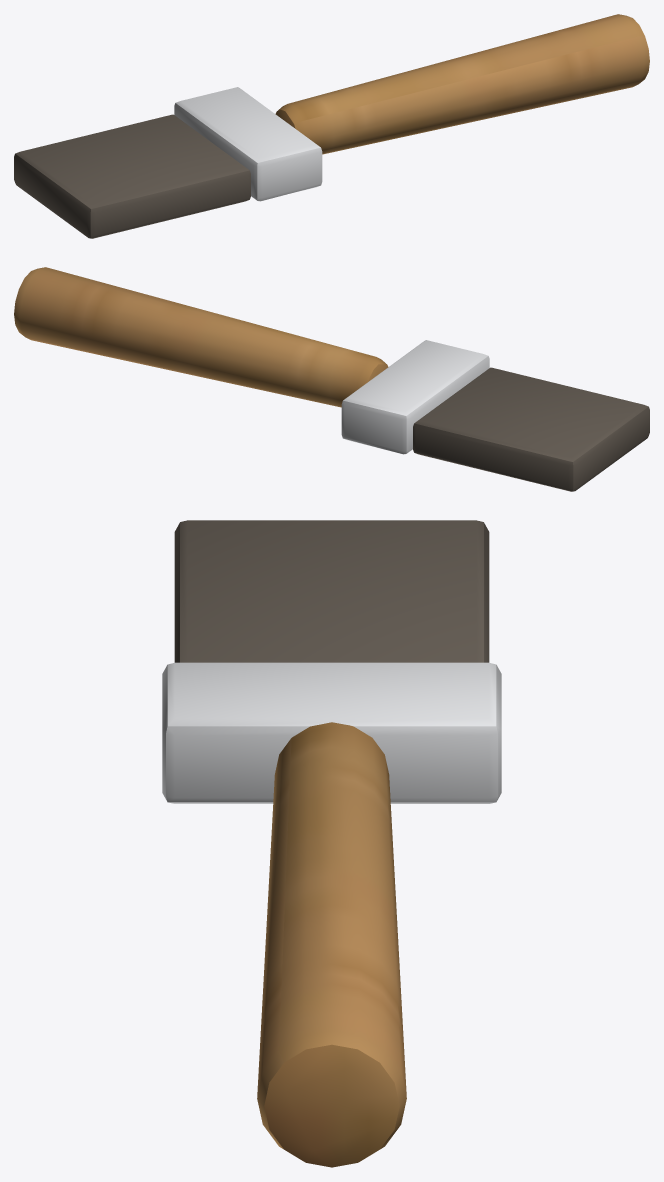
Rendered from PIN-FER-002_lod1.glb.
3 renders of one model, top to bottom at view 1: azimuth 30°, elevation 25°; view 2: azimuth 150°, elevation 25°; view 3: azimuth 270°, elevation 25°, orthographic. The views are drawn at different scales.
Parts seen in each view (by area): view 1: PIN-FER-002_cabo, PIN-FER-002_cerdas, PIN-FER-002_virola; view 2: PIN-FER-002_cabo, PIN-FER-002_cerdas, PIN-FER-002_virola; view 3: PIN-FER-002_cabo, PIN-FER-002_cerdas, PIN-FER-002_virola.
Boxes of the visible parts, x1=… form: PIN-FER-002_cabo: x1=275, y1=14, x2=649, y2=154; PIN-FER-002_cerdas: x1=14, y1=114, x2=250, y2=238; PIN-FER-002_virola: x1=174, y1=87, x2=322, y2=201; PIN-FER-002_cabo: x1=14, y1=267, x2=388, y2=407; PIN-FER-002_cerdas: x1=413, y1=367, x2=649, y2=491; PIN-FER-002_virola: x1=341, y1=340, x2=489, y2=454; PIN-FER-002_cabo: x1=257, y1=722, x2=406, y2=1167; PIN-FER-002_cerdas: x1=174, y1=520, x2=489, y2=662; PIN-FER-002_virola: x1=162, y1=662, x2=501, y2=803.
Size of the model in its own units: 0.215 by 0.0238 by 0.054.
Materials: 3 (1 with a texture image).
